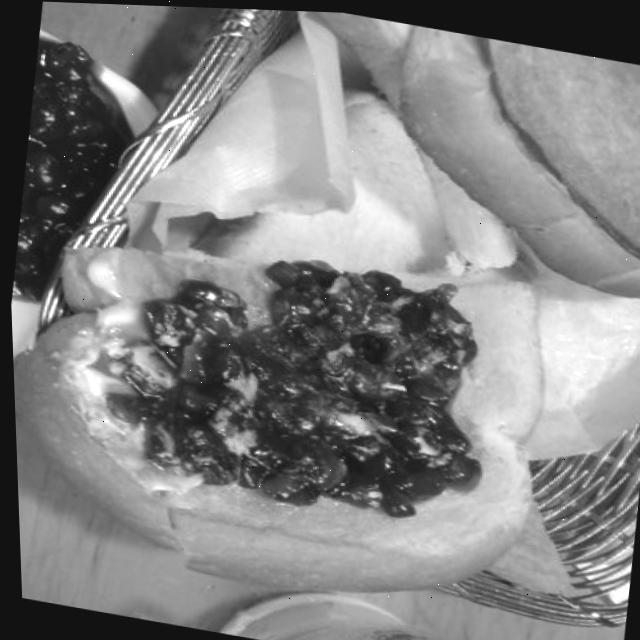面包点心: (5, 182, 582, 622)
